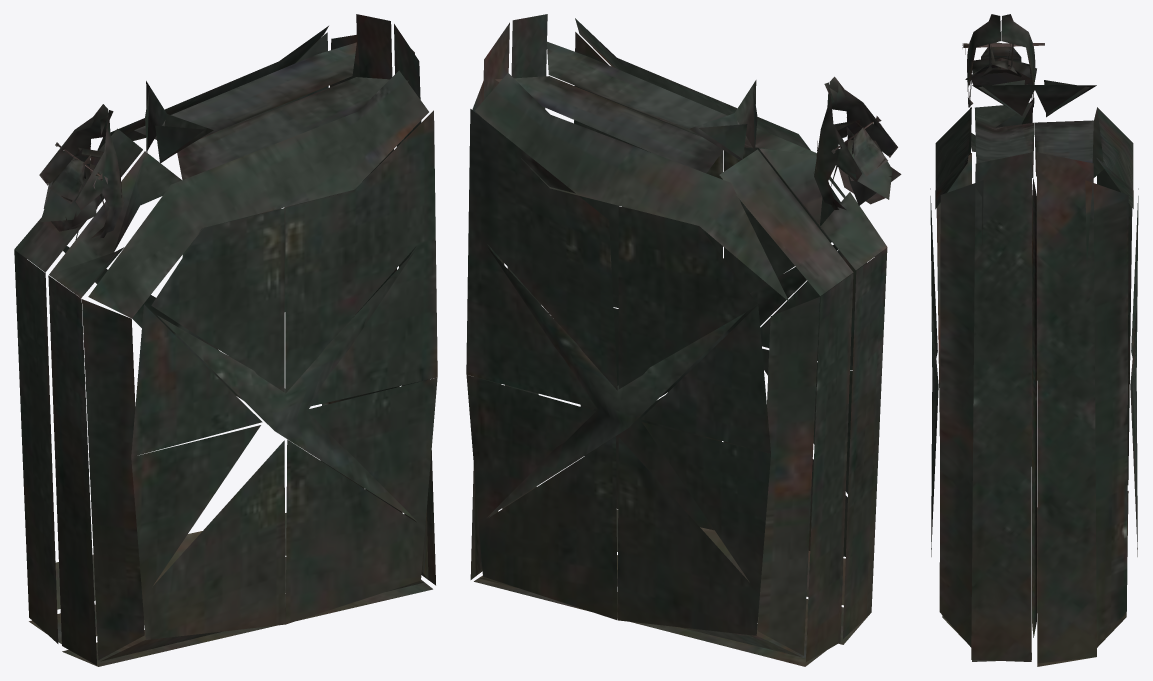
File: metal_jerrycan_green.glb
3 views of the same model, side by side, from view 1: azimuth 30°, elevation 25°; view 2: azimuth 150°, elevation 25°; view 3: azimuth 270°, elevation 25° (orthographic). The views are drawn at different scales.
Parts seen in each view (by area): view 1: metal_jerrycan_green_body; view 2: metal_jerrycan_green_body; view 3: metal_jerrycan_green_body.
Boxes of the visible parts, x1,y1,x2,y2 form: metal_jerrycan_green_body: (14, 14, 437, 666); metal_jerrycan_green_body: (466, 14, 901, 666); metal_jerrycan_green_body: (930, 14, 1138, 666).
Size of the model in its own units: 0.3633 by 0.4982 by 0.1804.
1 material, 1 textured.
